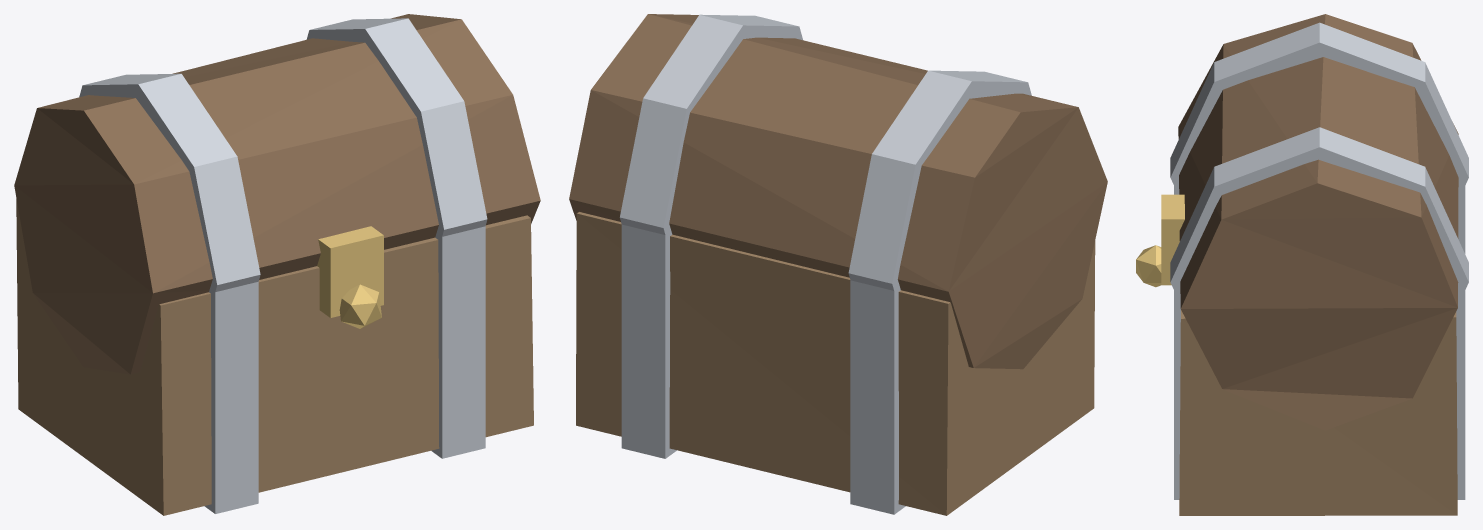
Rendered from Chest.fbx.
3 views of the same model, side by side, from view 1: azimuth 30°, elevation 25°; view 2: azimuth 150°, elevation 25°; view 3: azimuth 270°, elevation 25° (orthographic). The views are drawn at different scales.
Parts seen in each view (by area): view 1: Chest_fbx; view 2: Chest_fbx; view 3: Chest_fbx.
Part boxes in pixels (x1,y1,x2,y2): Chest_fbx: (14, 14, 540, 515); Chest_fbx: (569, 14, 1107, 515); Chest_fbx: (1136, 14, 1468, 515).
Bounding box in the file's own units: 0.585 × 0.535 × 0.4572.
